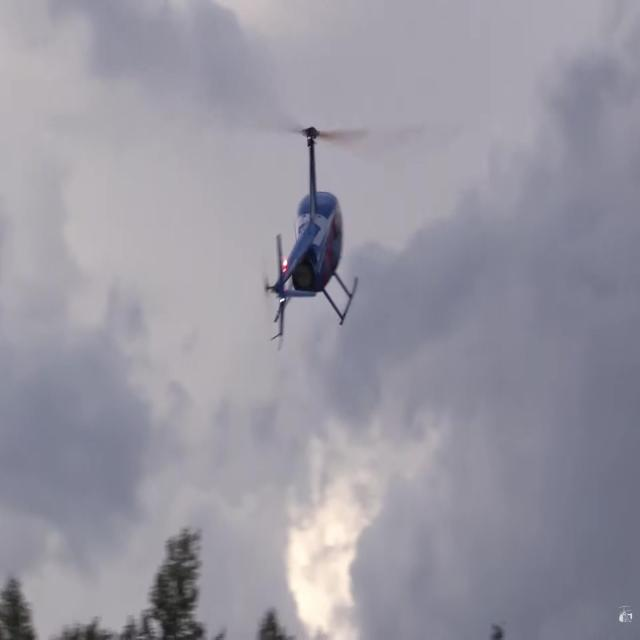CIV_HELO: (263, 125, 359, 348)
